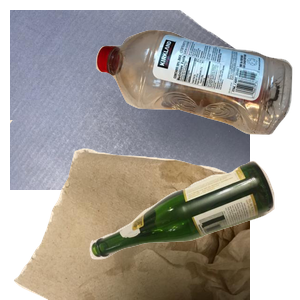cardboard: (10, 10, 250, 190)
glass: (87, 158, 300, 300)
plastic: (93, 27, 300, 154)
trash: (10, 120, 250, 300)
